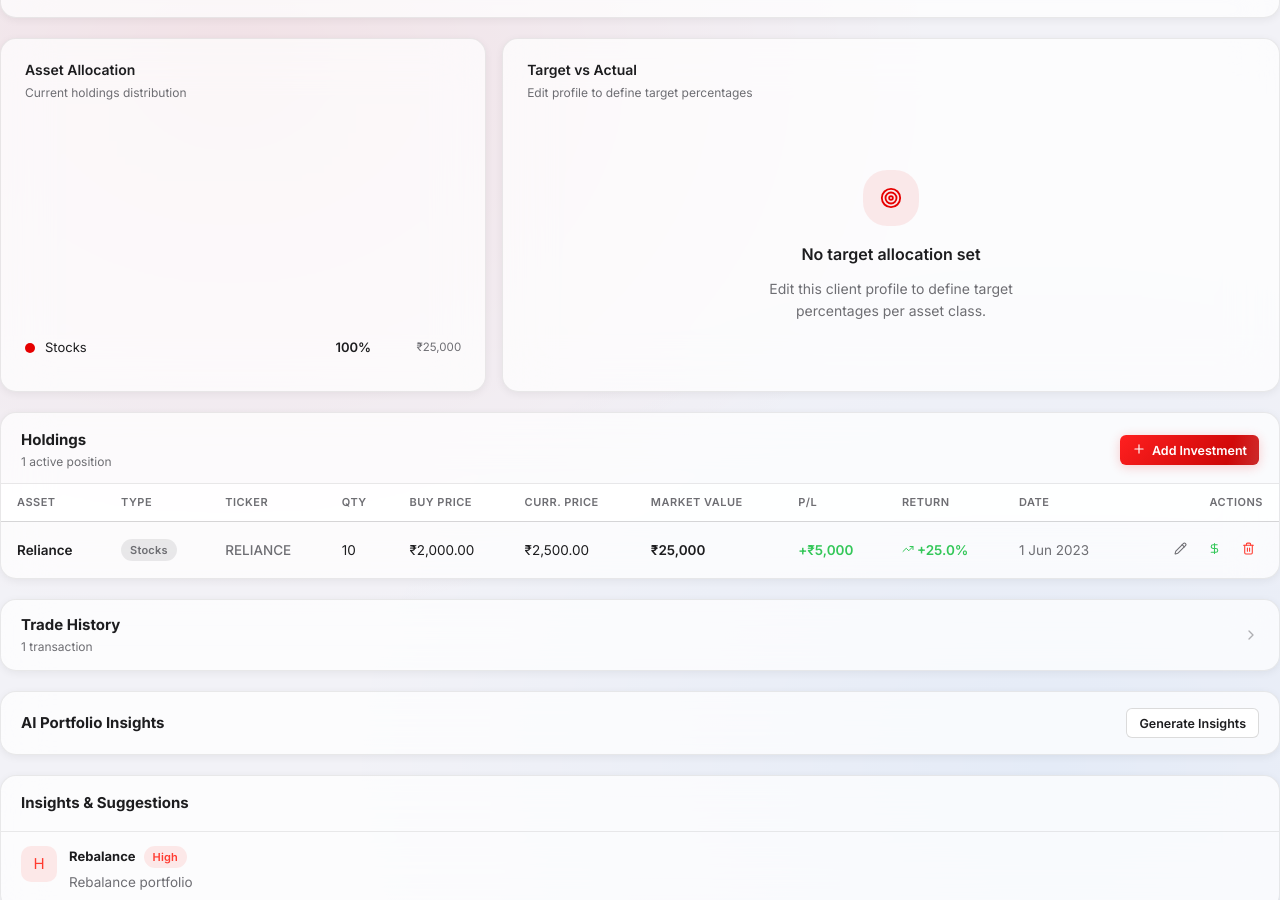
Test case: CustomerDetailPage — holdings table › opens InvestmentForm when Add Investment is clicked
The width and height of the screenshot is (1280, 900).
(page scrolled)
Click the button "Add Investment": (1190, 450) [1120, 435, 1259, 465]
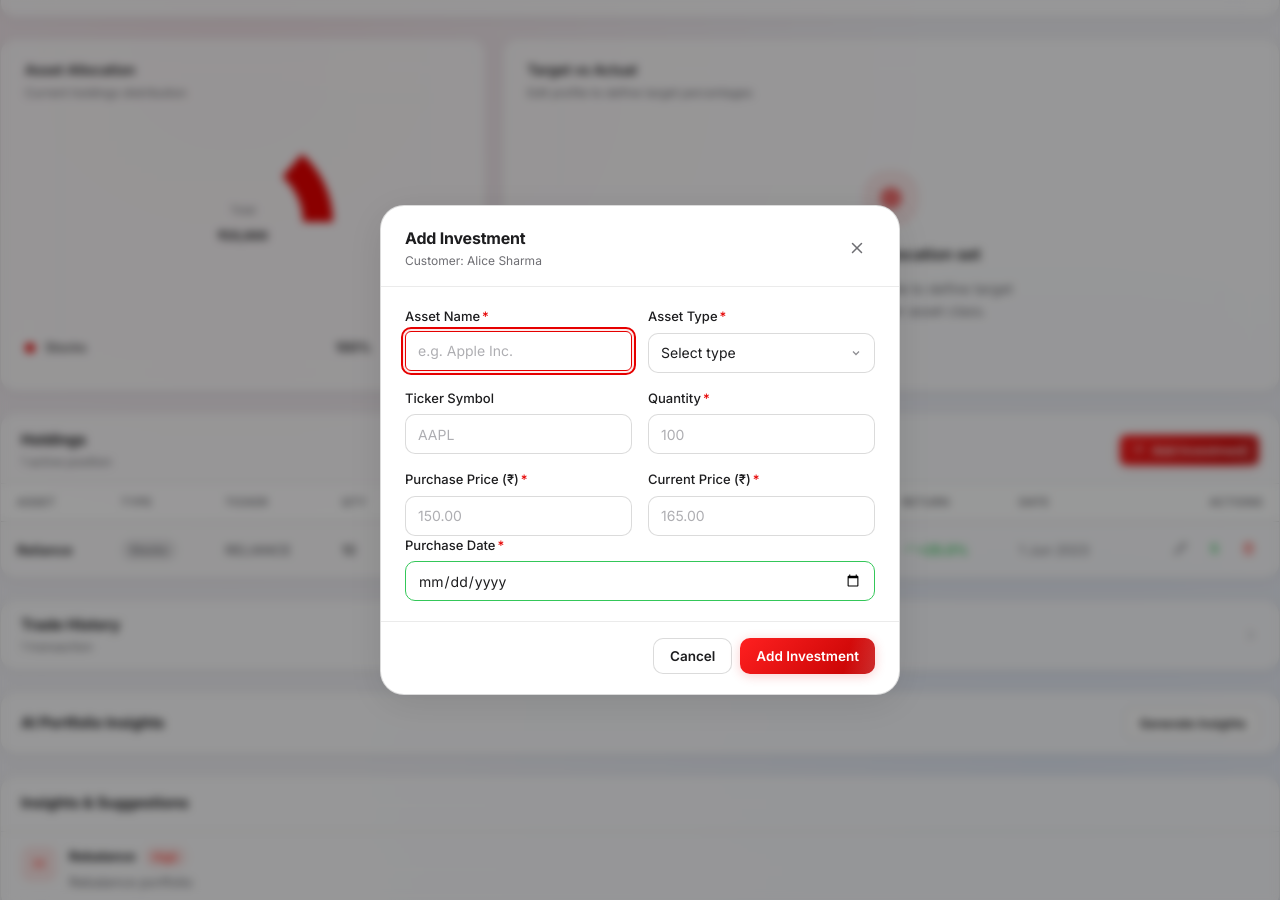
Expected: the dialog is shown, [380, 205, 900, 695]
